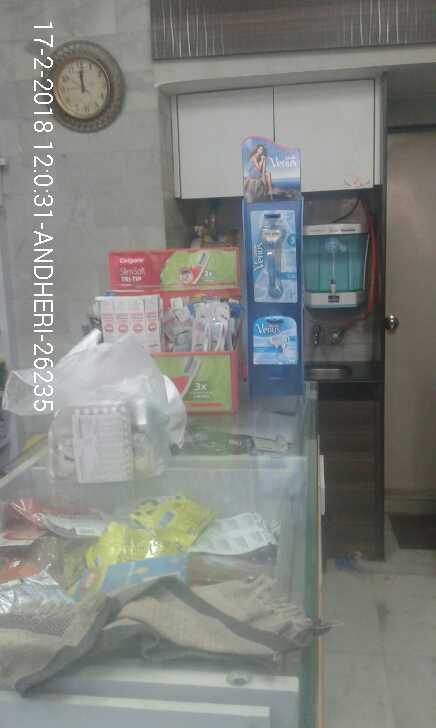beauty: (250, 209, 299, 306), (251, 313, 303, 366)
